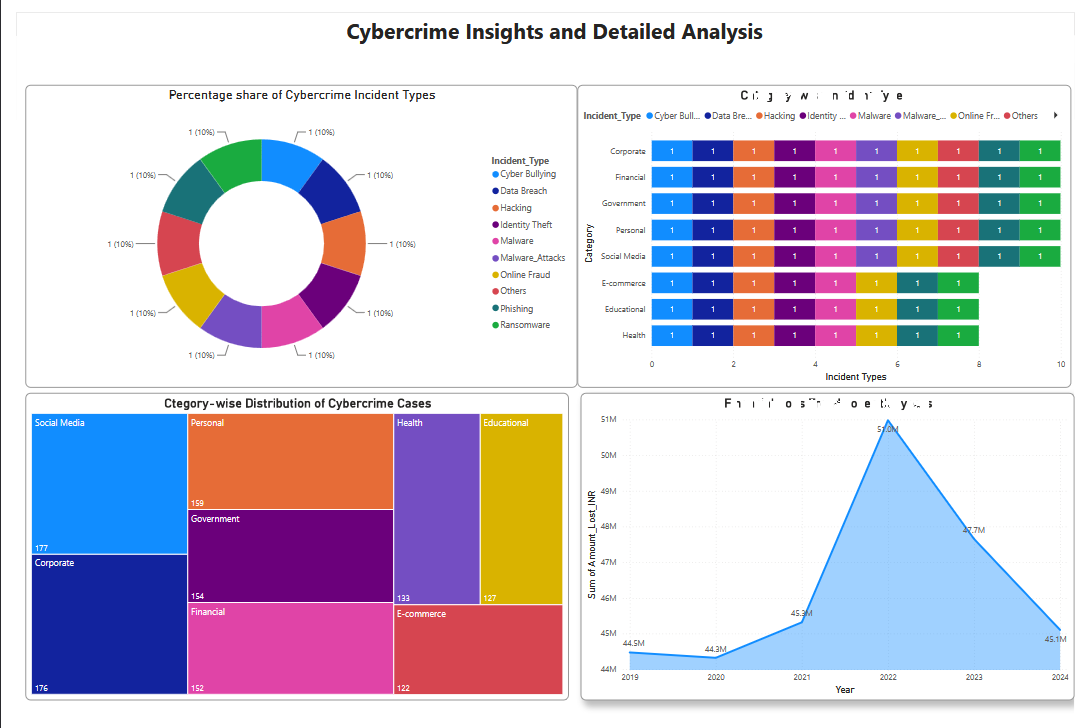

This screenshot's page, from the dashboard's own definition file:
{"tool":"powerbi","page":{"name":"Page 2","canvas":[1600,1200],"ordinal":1},"visuals":[{"type":"donutChart","title":"Percentage share of Cybercrime Incident Types","fields":{"Category":["cybersecurity_cases_india_combined.Incident_Type"],"Y":["cybersecurity_cases_india_combined.Incident Types"]},"box":[12.5,109.2,835,457.5],"z":0},{"type":"treemap","title":"Ctegory-wise Distribution of Cybercrime Cases","fields":{"Group":["cybersecurity_cases_india_combined.Category"],"Values":["CountNonNull(cybersecurity_cases_india_combined.Category)"]},"box":[12.5,575,822.5,465],"z":1},{"type":"barChart","title":"Category-wise Incident Types","fields":{"Category":["cybersecurity_cases_india_combined.Category"],"Y":["cybersecurity_cases_india_combined.Incident Types"],"Series":["cybersecurity_cases_india_combined.Incident_Type"]},"box":[847.5,109.2,747.5,457.5],"z":2},{"type":"areaChart","title":"Financial Loss Trends over the years","fields":{"Category":["cybersecurity_cases_india_combined.Year"],"Y":["Sum(cybersecurity_cases_india_combined.Amount_Lost_INR)"]},"box":[852.5,575,747.5,465],"z":3},{"type":"textbox","box":[0,0,1600,75],"z":5}]}

Visuals, with their boxes on the page's 1600x1200 design canvas (x1, y1, x2, y2). These are canvas units, not pixel positions in the 1090x728 screenshot, which may show the page scaled, cropped or inside an application window:
"Percentage share of Cybercrime Incident Types" donutChart: [x1=12, y1=109, x2=848, y2=567]
"Ctegory-wise Distribution of Cybercrime Cases" treemap: [x1=12, y1=575, x2=835, y2=1040]
"Category-wise Incident Types" barChart: [x1=848, y1=109, x2=1595, y2=567]
"Financial Loss Trends over the years" areaChart: [x1=852, y1=575, x2=1600, y2=1040]
textbox: [x1=0, y1=0, x2=1600, y2=75]
